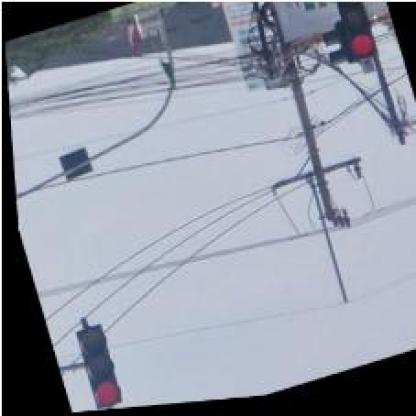red: (64, 319, 119, 410), (327, 1, 380, 72)
